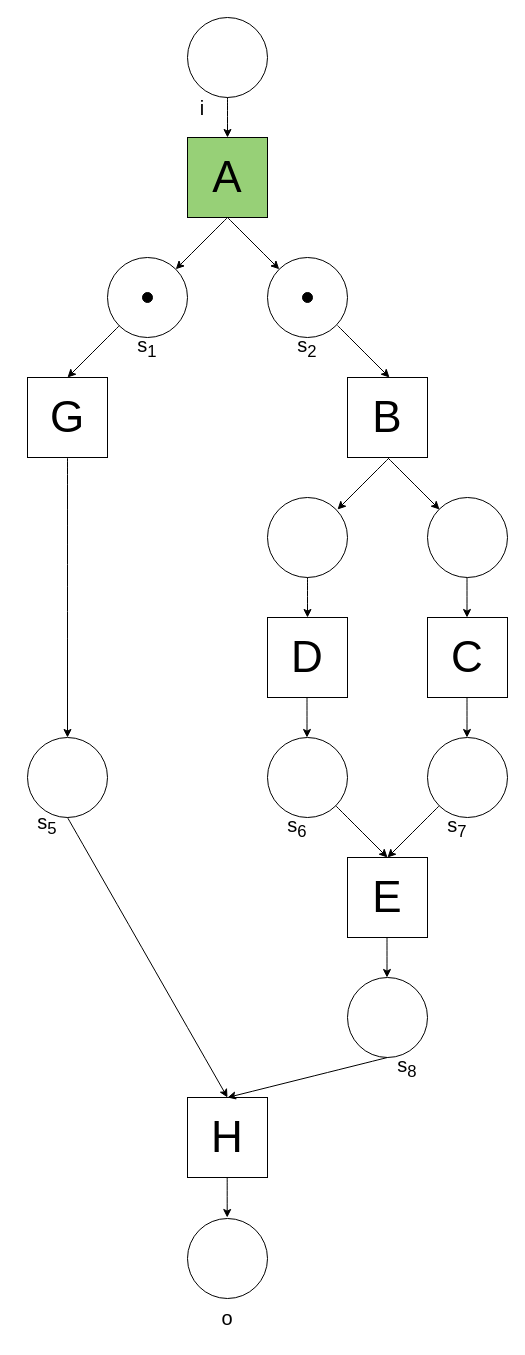
Image size: 525x1355. Some labels were removed from this diagram. The shapes that lost their labels are listed below. From the top down, each one's centre as x and y in pixels, then its label:
At point 307,537: "s 3".
At point 467,537: "s 4".
